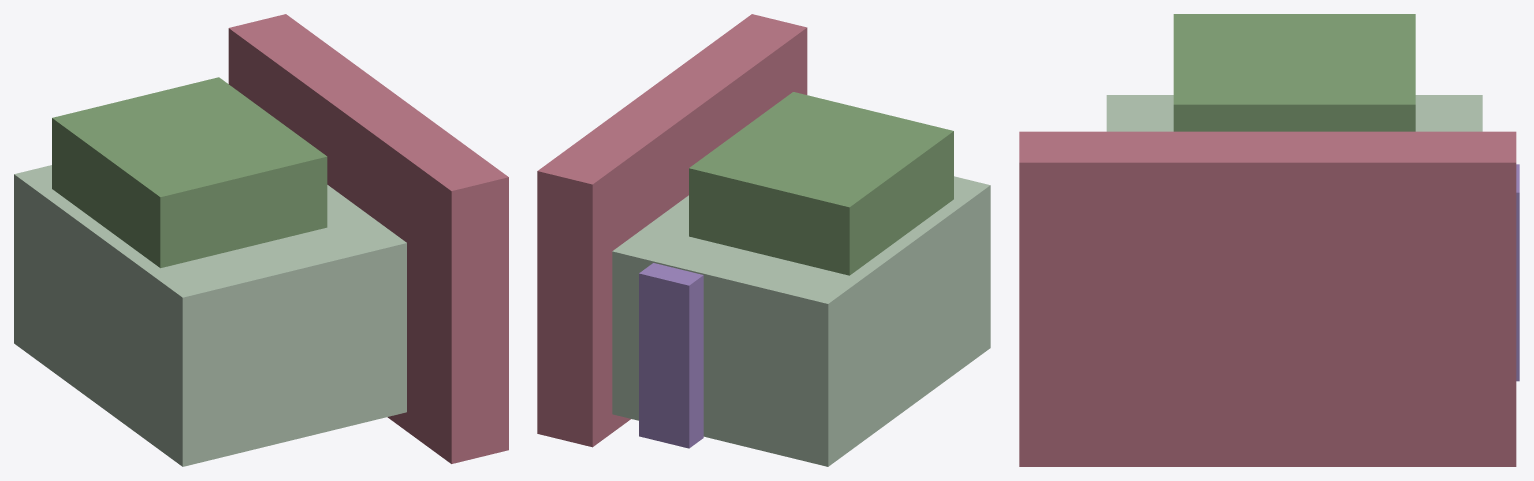
The picture shows the model from 3 angles, left to right: view 1: azimuth 30°, elevation 25°; view 2: azimuth 150°, elevation 25°; view 3: azimuth 270°, elevation 25°; orthographic projection. The views are drawn at different scales.
Visible parts, largest first — view 1: world; view 2: world; view 3: world.
Boxes of the visible parts, bbox=[...] form: world: bbox=[14, 14, 508, 466]; world: bbox=[537, 14, 990, 466]; world: bbox=[1019, 14, 1519, 466].
Size of the model in its own units: 5.5 by 5 by 7.45.
